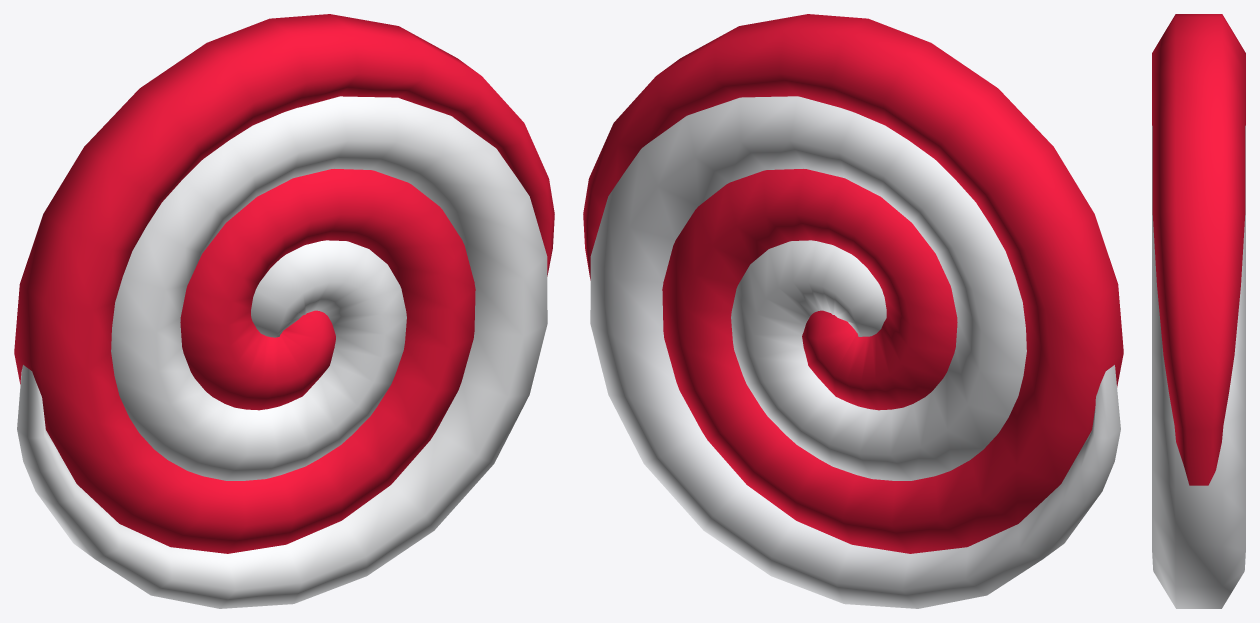
The model's file is lollipop_011.glb.
3 renders of one model, left to right at view 1: azimuth 30°, elevation 25°; view 2: azimuth 150°, elevation 25°; view 3: azimuth 270°, elevation 25°, orthographic. The views are drawn at different scales.
Visible parts, largest first — view 1: lollipop_011; view 2: lollipop_011; view 3: lollipop_011.
Boxes of the visible parts, x1=… form: lollipop_011: x1=14, y1=14, x2=554, y2=608; lollipop_011: x1=583, y1=14, x2=1123, y2=608; lollipop_011: x1=1152, y1=14, x2=1245, y2=608.
Size of the model in its own units: 4.1 by 4.25 by 0.6662.
1 material, 1 textured.
